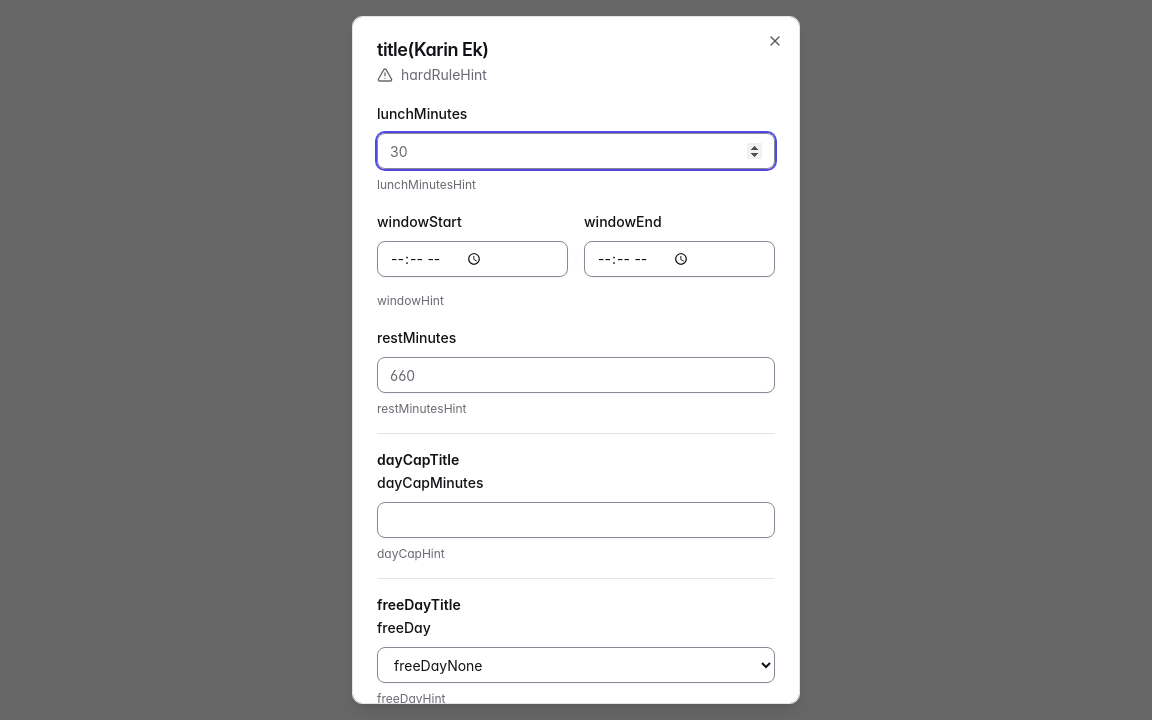
it: the bounds › refuses a lunch shorter than five minutes
Type "4" into the number field labelled "lunchMinutes". click: (576,151)
box: [377,133,775,169]
(page scrolled)
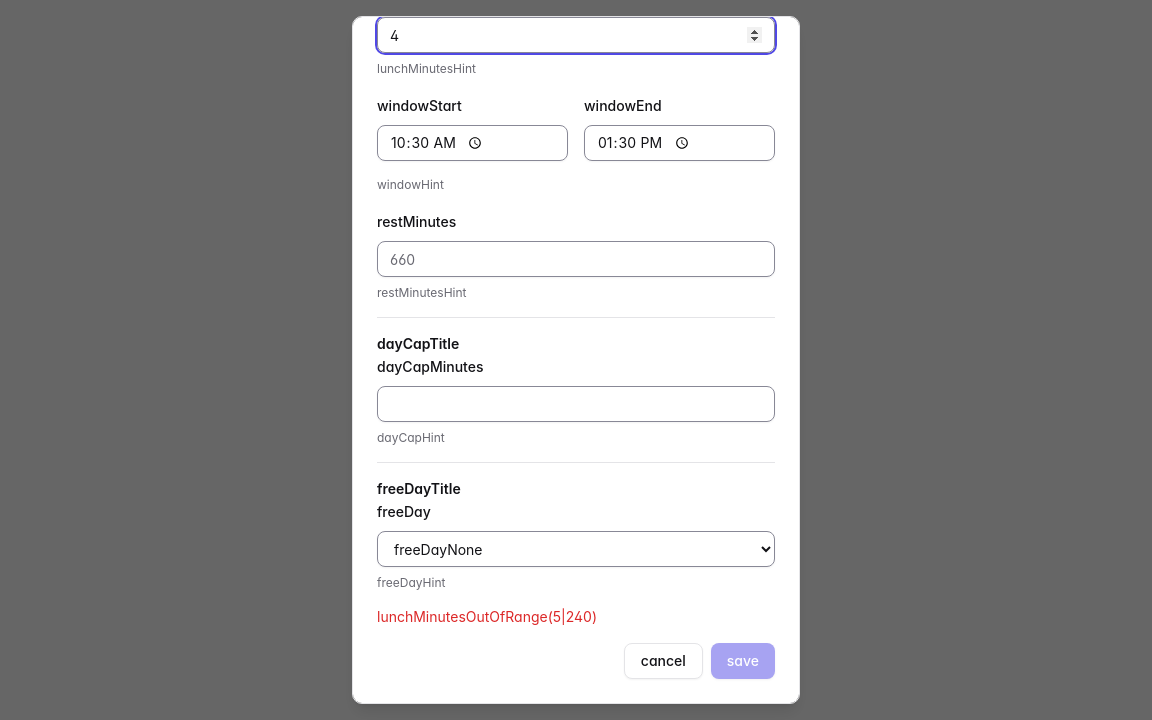
Now the message reads "lunchMinutesOutOfRange(5|240)", box [377,608,597,625]
Now the button "save" is disabled, box [711,643,775,679]
